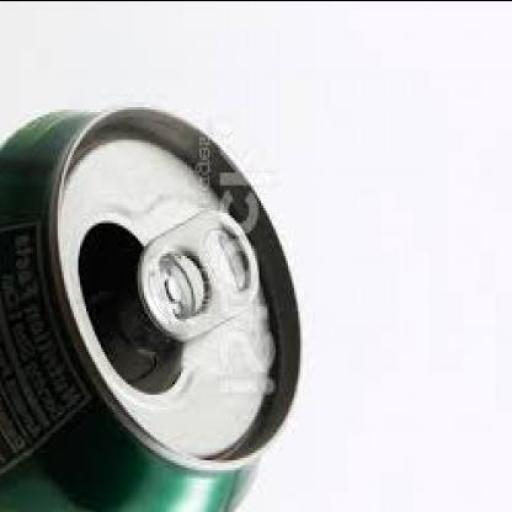metal: (1, 106, 308, 511)
